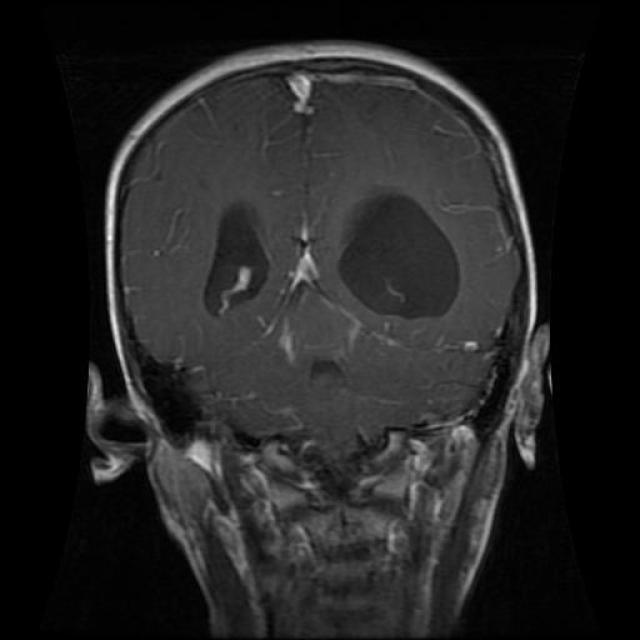glioma: (340, 190, 462, 318), (208, 195, 272, 316)
